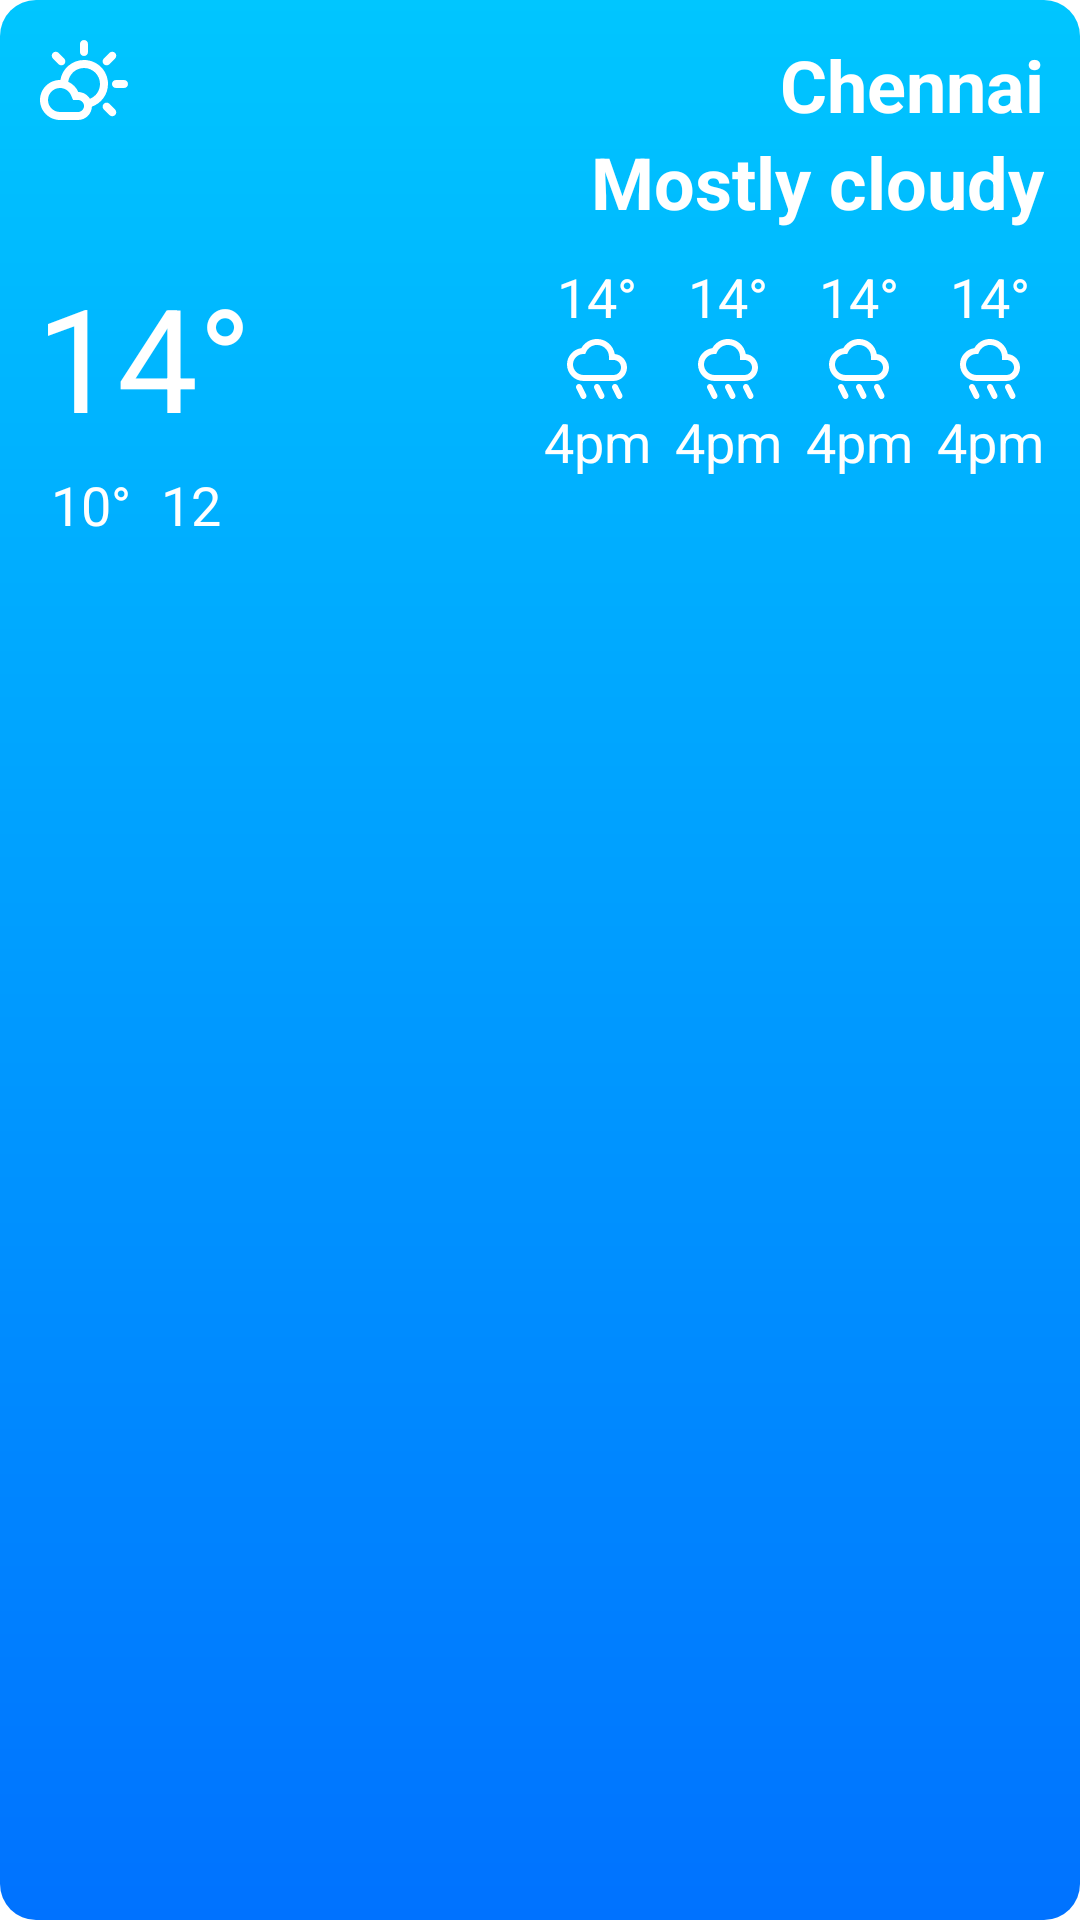

Point at icon controls on the screen. Image size 1080w x 1920h, points as [x,y].
Rainy Icon: [597,369], [728,369], [859,369], [990,369]
Widget Icon: [84,80]
